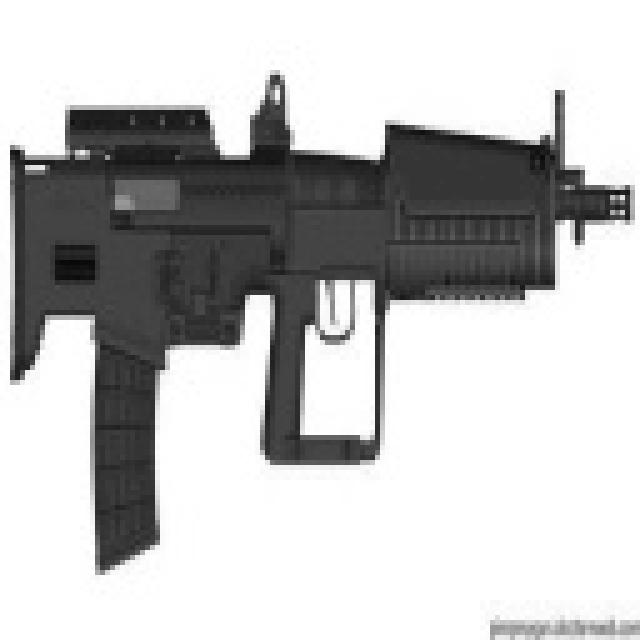Rifle: (10, 65, 640, 590)
